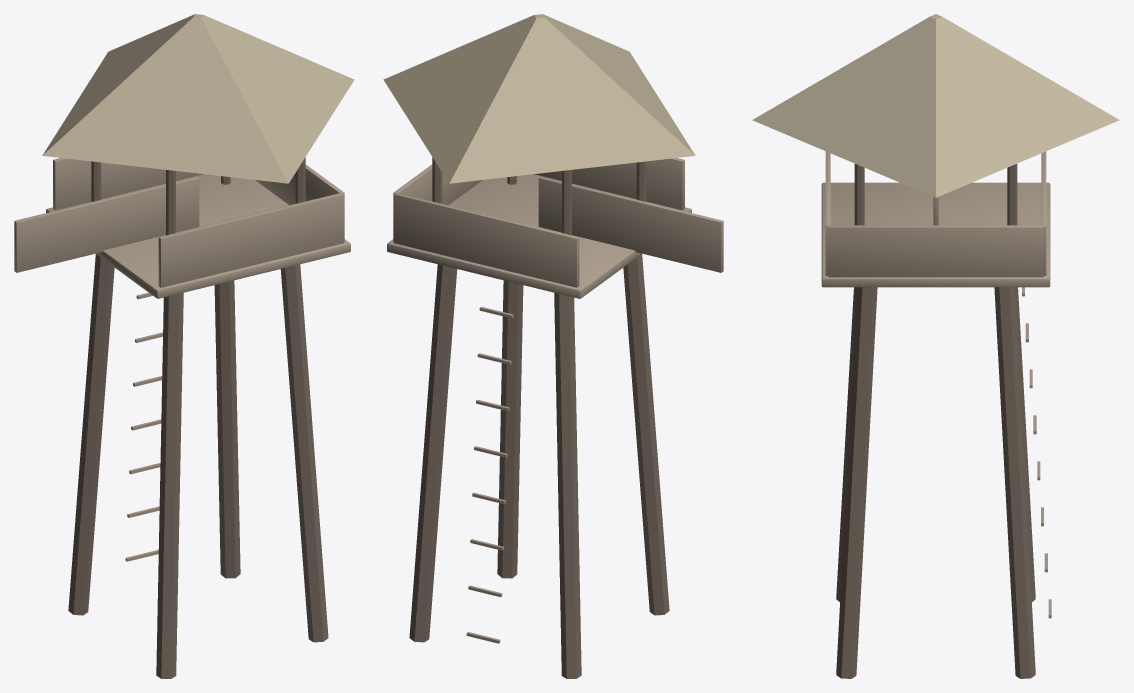
Rendered from watchtower.gltf.
3 renders of one model, left to right at view 1: azimuth 30°, elevation 25°; view 2: azimuth 150°, elevation 25°; view 3: azimuth 270°, elevation 25°, orthographic.
Parts seen in each view (by area): view 1: Body; view 2: Body; view 3: Body.
Boxes of the visible parts, box(x1,y1,x2,y2) form: Body: box(14, 14, 354, 678); Body: box(383, 14, 723, 678); Body: box(752, 14, 1119, 678).
Size of the model in its own units: 6.3 by 10.81 by 5.8.
